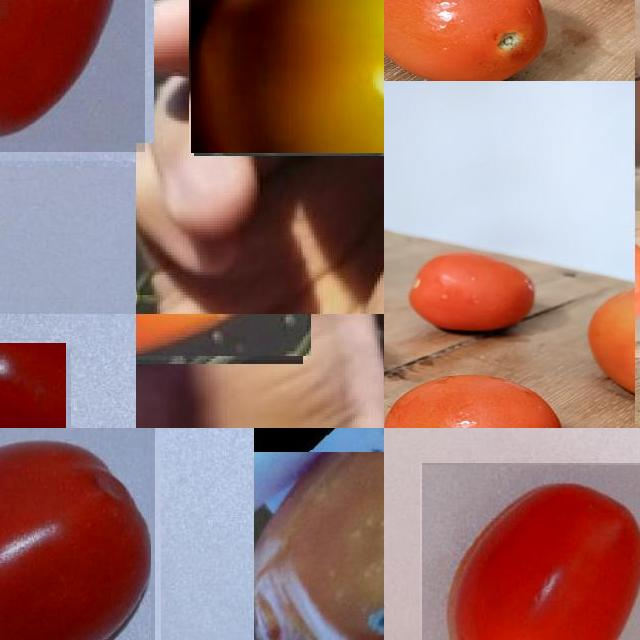Fresh Tomato: (421, 462, 640, 640), (0, 428, 155, 640), (0, 0, 145, 152)
Rotten Tomato: (191, 0, 384, 153), (254, 452, 384, 640)
